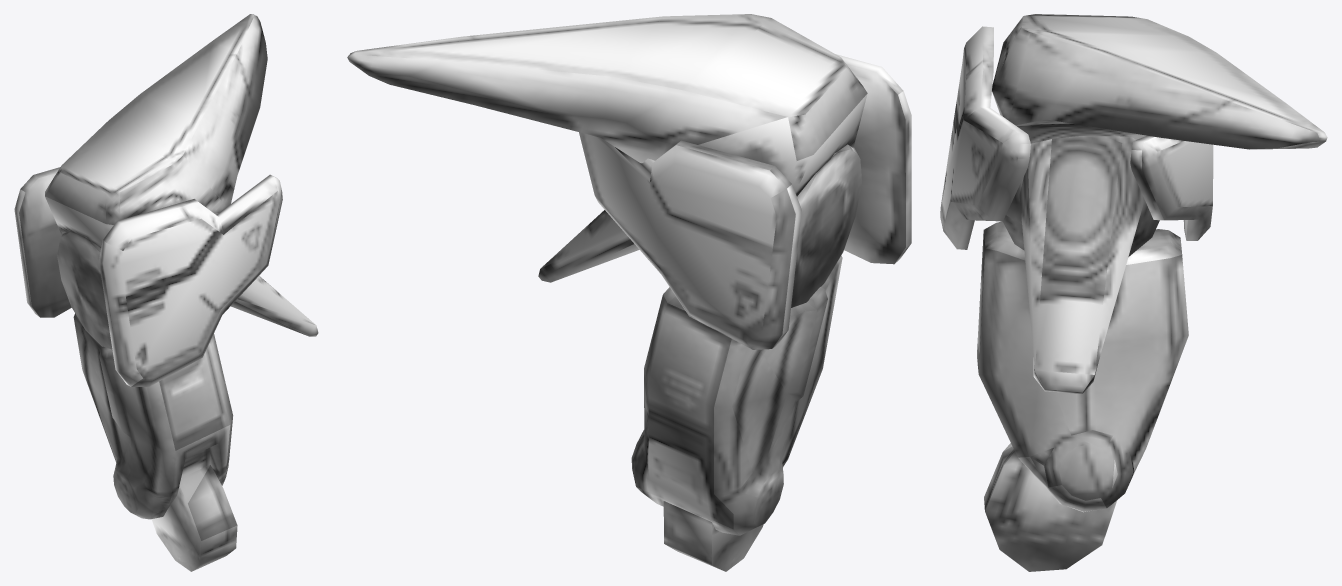
The model's file is l_upper.glb.
3 views of the same model, side by side, from view 1: azimuth 30°, elevation 25°; view 2: azimuth 150°, elevation 25°; view 3: azimuth 270°, elevation 25° (orthographic). The views are drawn at different scales.
Parts seen in each view (by area): view 1: l_upper; view 2: l_upper; view 3: l_upper.
Boxes of the visible parts, box(x1,y1,x2,y2) form: l_upper: box(14, 14, 318, 571); l_upper: box(347, 14, 911, 571); l_upper: box(940, 14, 1327, 571).
Size of the model in its own units: 0.6733 by 0.9445 by 0.6197.
Materials: 3 (3 with a texture image).
